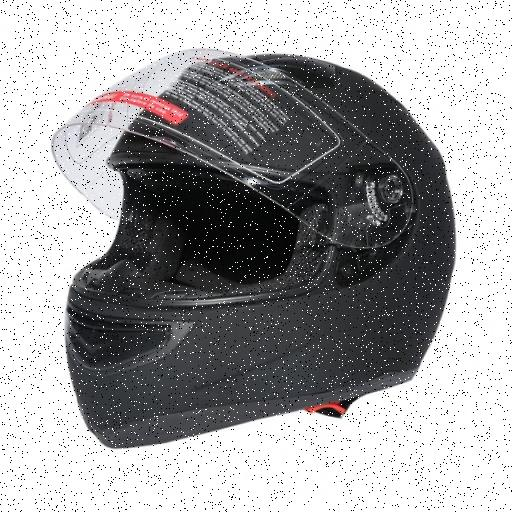Helmet: (42, 62, 460, 458)
